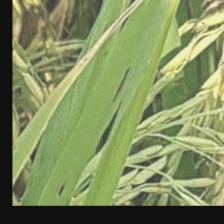Leaf_Blast: (64, 0, 168, 77)
